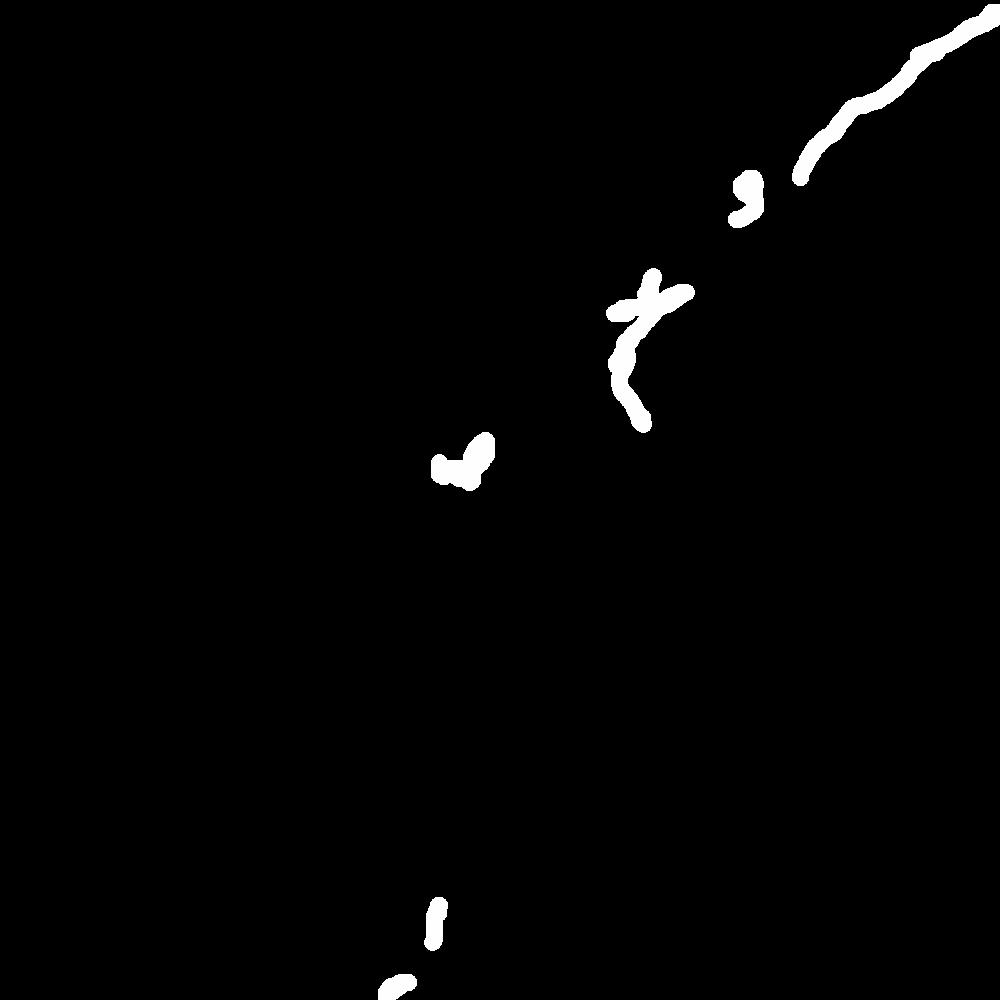illegal: (601, 267, 699, 433), (881, 1, 1000, 88), (433, 414, 527, 488), (373, 897, 440, 1000), (794, 101, 856, 194), (726, 176, 772, 232)
